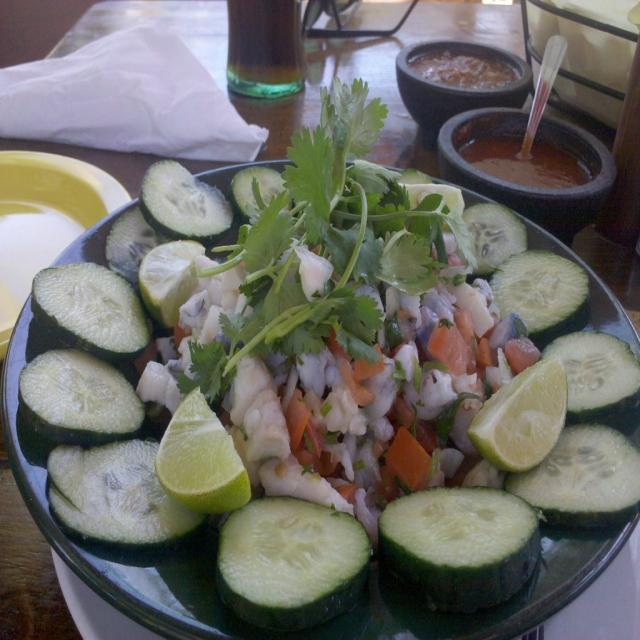Zucchini: (365, 461, 570, 627), (208, 493, 374, 632), (49, 432, 211, 569), (19, 346, 146, 455), (502, 423, 640, 521), (27, 260, 152, 358), (486, 251, 591, 347), (539, 332, 639, 422), (138, 156, 234, 244), (103, 200, 175, 290), (458, 202, 528, 282), (231, 165, 288, 229)
